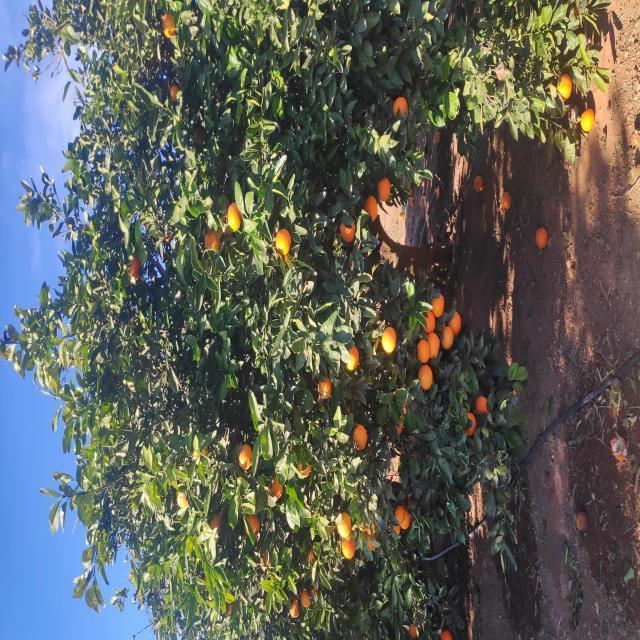Jeruk Sudah Matang: (280, 424, 308, 440), (538, 556, 566, 572), (409, 227, 438, 242), (190, 352, 217, 368), (386, 276, 412, 292), (102, 336, 128, 352), (287, 381, 314, 396), (305, 420, 330, 436), (170, 238, 198, 252), (516, 394, 544, 408), (102, 244, 128, 259), (322, 429, 348, 444), (398, 340, 421, 356), (140, 268, 166, 282), (250, 418, 276, 432), (390, 204, 410, 222), (602, 163, 628, 176), (304, 448, 330, 461), (269, 346, 294, 359), (419, 364, 444, 377), (241, 318, 264, 332), (509, 580, 532, 594), (174, 192, 194, 208), (224, 474, 244, 490), (358, 127, 382, 140), (290, 441, 314, 454), (204, 463, 228, 476), (105, 209, 128, 222), (66, 260, 90, 272), (278, 416, 300, 429), (81, 342, 102, 355), (440, 378, 462, 390), (392, 536, 413, 548), (131, 176, 150, 189), (162, 296, 177, 312), (90, 364, 110, 376), (33, 300, 52, 312), (22, 290, 42, 300), (430, 501, 448, 512), (98, 338, 112, 352), (117, 394, 136, 404), (111, 400, 130, 410), (449, 473, 465, 484), (539, 170, 556, 180), (0, 439, 11, 454), (76, 308, 92, 317), (105, 366, 119, 376), (205, 395, 222, 403), (2, 410, 16, 418), (105, 393, 116, 401), (498, 434, 509, 440), (44, 312, 54, 318), (442, 408, 449, 414), (421, 399, 429, 404), (435, 410, 443, 414)
